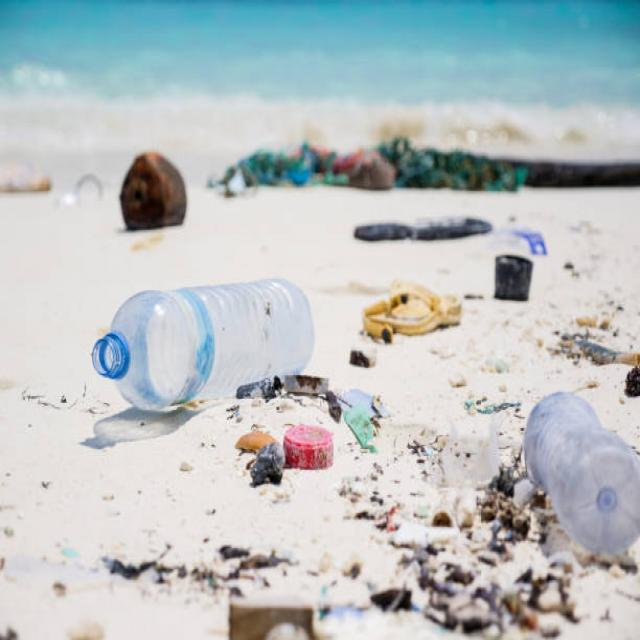plastic: (99, 282, 306, 411), (529, 390, 638, 551)
